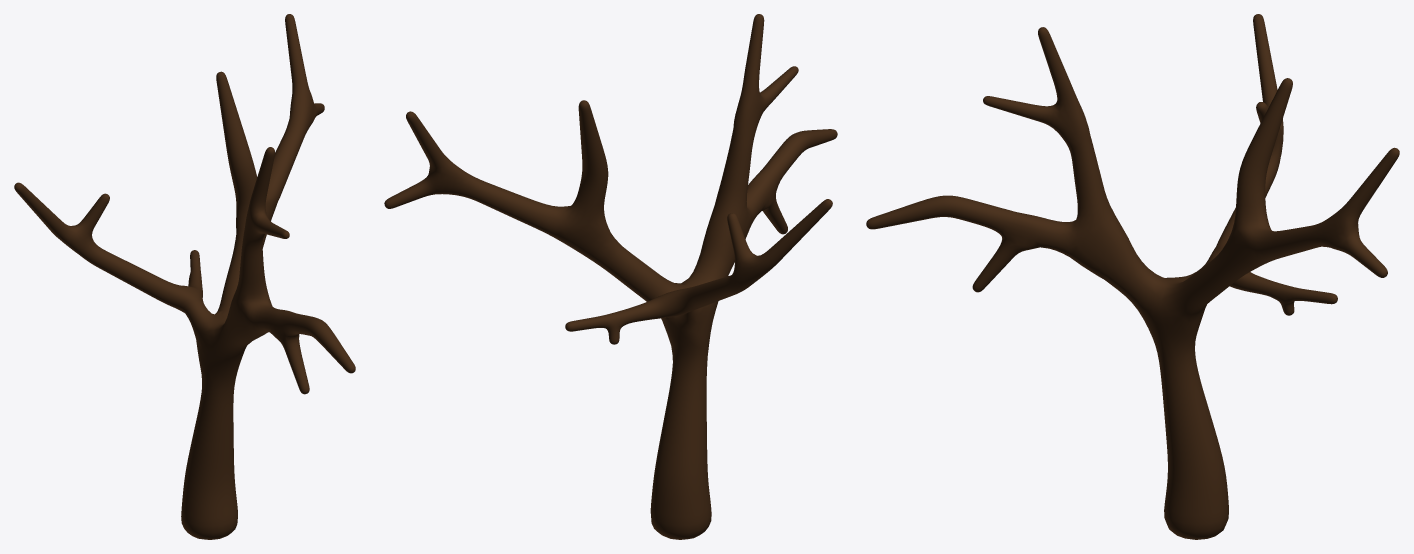
Rendered from tree.glb.
3 views of the same model, side by side, from view 1: azimuth 30°, elevation 25°; view 2: azimuth 150°, elevation 25°; view 3: azimuth 270°, elevation 25° (orthographic). The views are drawn at different scales.
Visible parts, largest first — view 1: Vert.003; view 2: Vert.003; view 3: Vert.003.
Boxes of the visible parts, x1,y1,x2,y2 form: Vert.003: (14,14,355,539); Vert.003: (384,14,837,539); Vert.003: (866,14,1399,539).
Bounding box in the file's own units: 3.03 × 3.49 × 3.35.
